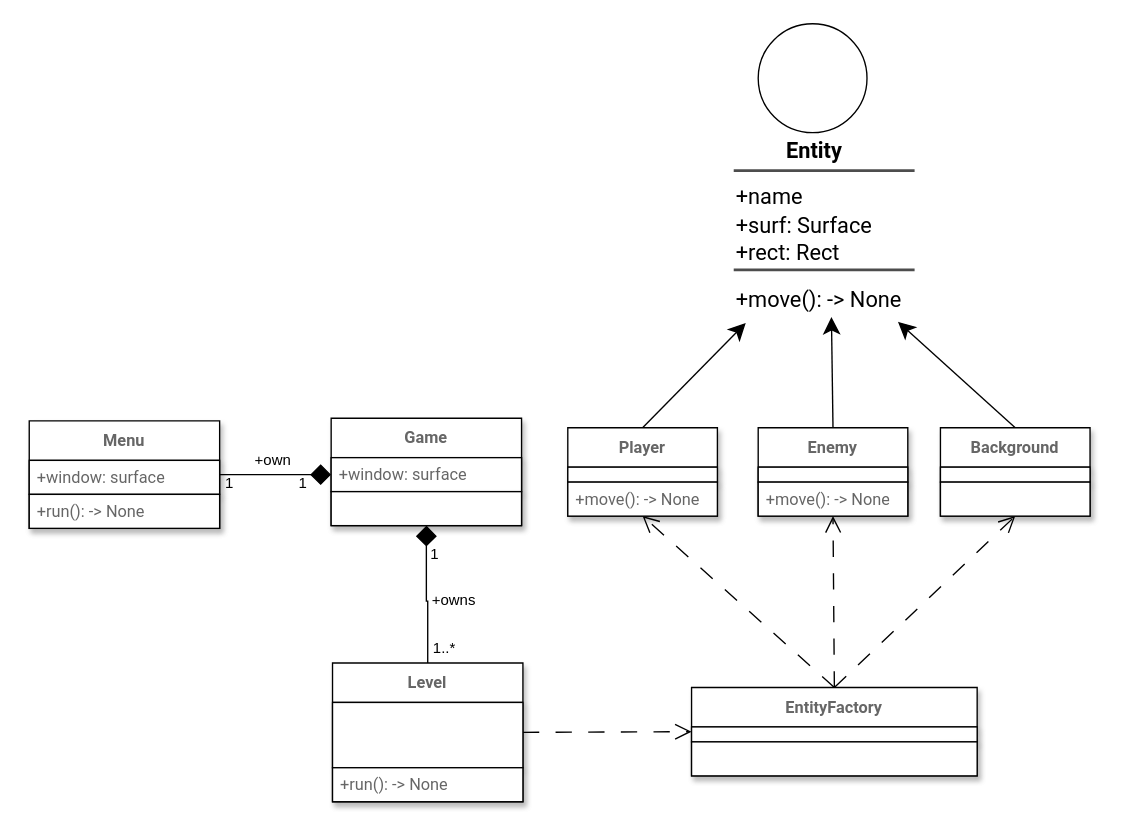
Image size: 1122x835. Some labels were removed from this diagram. Each missing label, with the centre of its shape:
"+get_entity(entity_type: str): -> Entity" belongs at point (835, 760).
"+run()" belongs at point (427, 510).
"+window: surface +name: str +entity_list: List" belongs at point (428, 736).
"move(): -> None" belongs at point (1016, 500).
